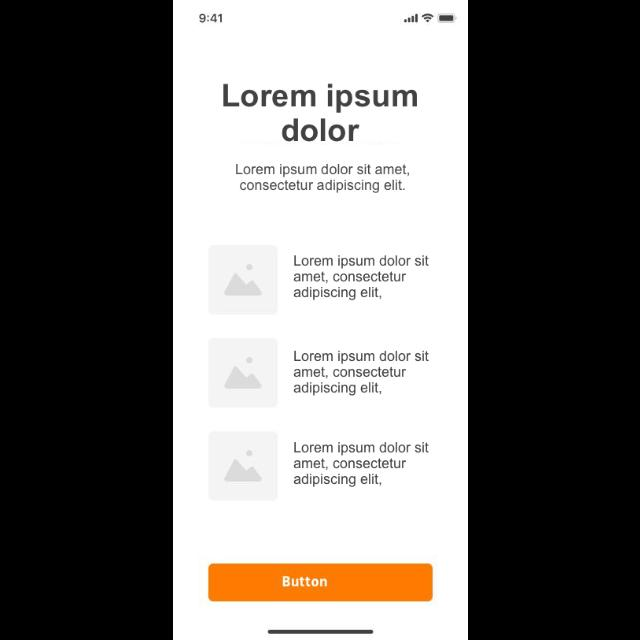image: (208, 245, 278, 315), (208, 338, 278, 408), (208, 430, 278, 500)
text: (223, 84, 417, 142), (293, 253, 429, 300), (293, 350, 429, 396), (293, 442, 429, 488), (235, 164, 409, 194)
textbutton: (208, 564, 432, 602)
uppertaskbar: (198, 13, 458, 24)
